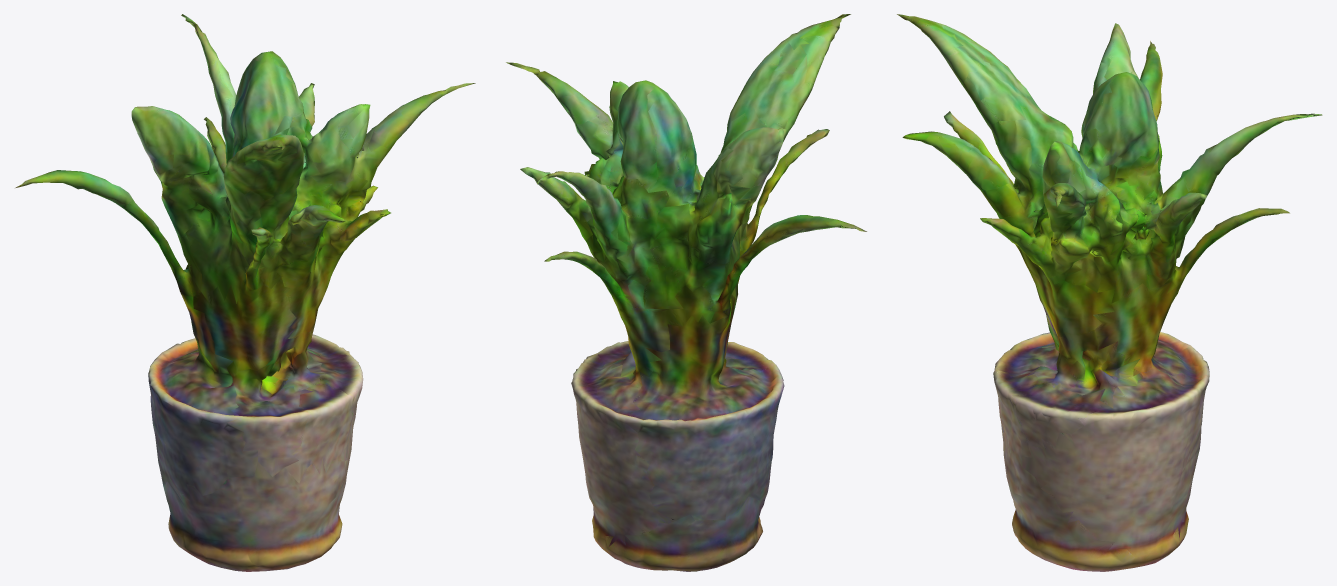
File: plant2.fbx
The picture shows the model from 3 angles, left to right: view 1: azimuth 30°, elevation 25°; view 2: azimuth 150°, elevation 25°; view 3: azimuth 270°, elevation 25°; orthographic projection. The views are drawn at different scales.
Parts seen in each view (by area): view 1: Mesh1; view 2: Mesh1; view 3: Mesh1.
Part boxes in pixels (x1,y1,x2,y2): Mesh1: (15,14,475,571); Mesh1: (506,14,866,571); Mesh1: (897,14,1322,571).
Size of the model in its own units: 105 by 120 by 92.19.
Materials: 1 (1 with a texture image).
